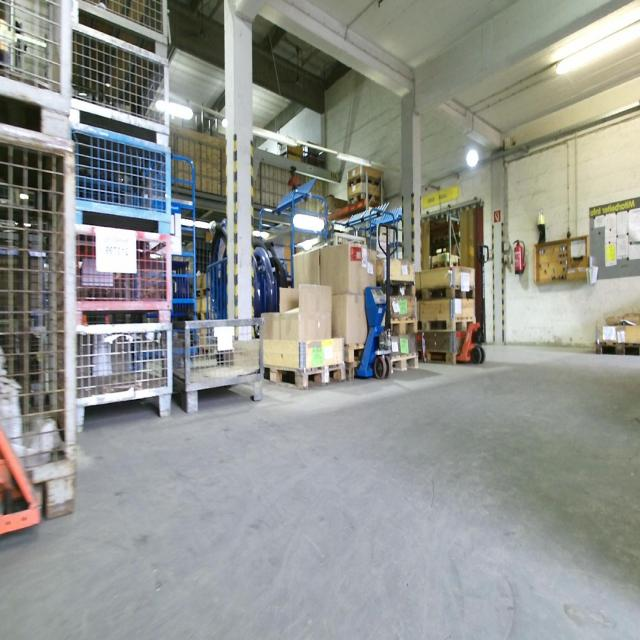pallet: (260, 361, 346, 395), (410, 283, 477, 302), (417, 316, 479, 334), (342, 340, 379, 364), (386, 351, 419, 377), (595, 337, 639, 356), (377, 280, 414, 302), (420, 351, 470, 367), (383, 315, 416, 338), (348, 191, 386, 209), (344, 361, 370, 384), (344, 178, 384, 192)
pallet_truck: (424, 241, 491, 362), (356, 218, 401, 384), (2, 418, 40, 545)
stillage: (1, 123, 83, 531), (65, 20, 170, 165), (43, 318, 176, 430), (50, 220, 175, 323), (138, 314, 265, 414), (65, 0, 168, 123), (67, 119, 173, 238), (1, 0, 77, 142)
